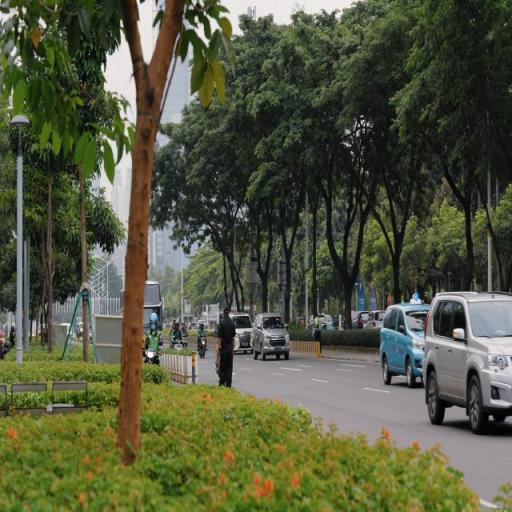Helmet: (150, 312, 158, 328)
Motor: (143, 313, 162, 364), (143, 348, 159, 364), (0, 340, 12, 359), (198, 336, 207, 358), (172, 336, 183, 350)
